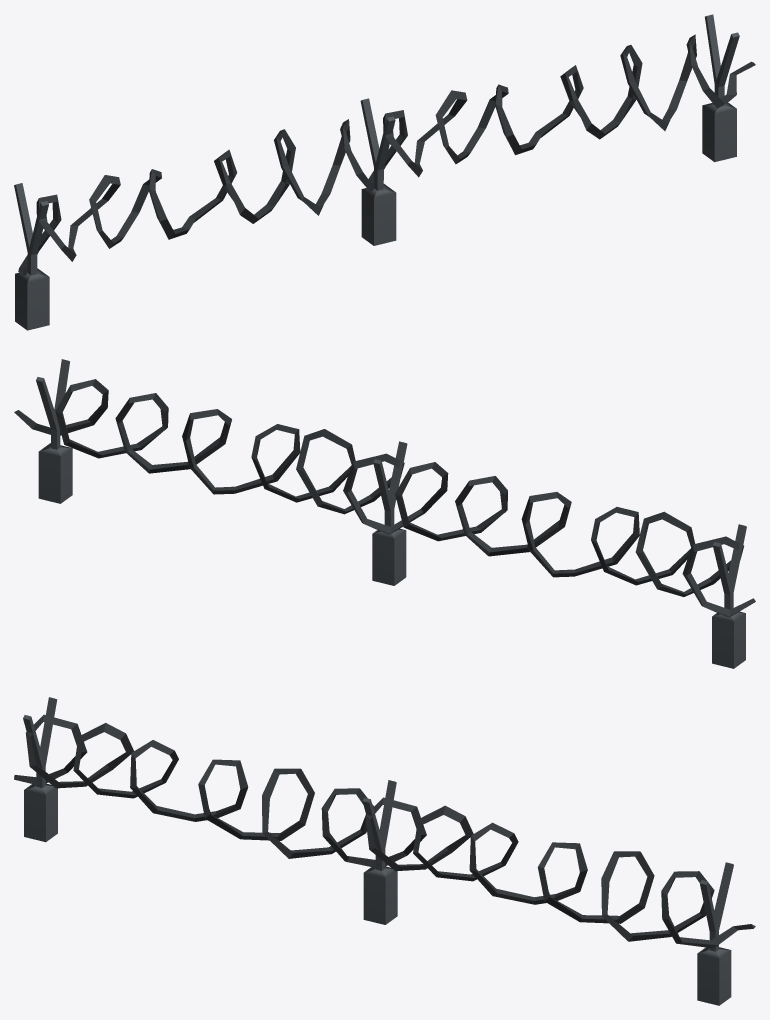
File: apoc_SM_Prop_Wall_Quarantine_BarbedWire_02.gltf
3 views of the same model, one above another, from view 1: azimuth 30°, elevation 25°; view 2: azimuth 150°, elevation 25°; view 3: azimuth 330°, elevation 25° (orthographic). The views are drawn at different scales.
Parts seen in each view (by area): view 1: SM_Prop_Wall_Quarantine_BarbedWire_02; view 2: SM_Prop_Wall_Quarantine_BarbedWire_02; view 3: SM_Prop_Wall_Quarantine_BarbedWire_02.
Part boxes in pixels (<box>): SM_Prop_Wall_Quarantine_BarbedWire_02: <box>14,14,755,330</box>; SM_Prop_Wall_Quarantine_BarbedWire_02: <box>14,359,755,668</box>; SM_Prop_Wall_Quarantine_BarbedWire_02: <box>14,697,755,1005</box>.
Size of the model in its own units: 4.63 by 0.7947 by 0.3915.
1 material, 1 textured.
